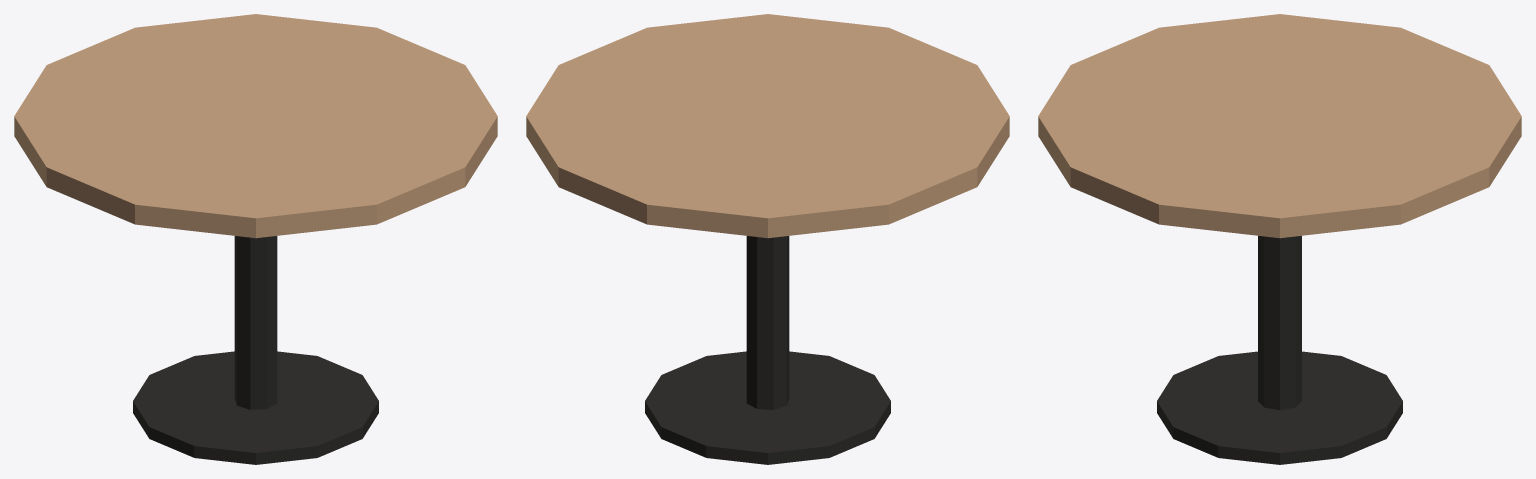
The model's file is table.glb.
3 views of the same model, side by side, from view 1: azimuth 30°, elevation 25°; view 2: azimuth 150°, elevation 25°; view 3: azimuth 270°, elevation 25° (orthographic).
Parts seen in each view (by area): view 1: TableTop, TableFoot, TablePost; view 2: TableTop, TableFoot, TablePost; view 3: TableTop, TableFoot, TablePost.
Boxes of the visible parts, <box> form: TableTop: <box>14,14,497,238</box>; TableFoot: <box>133,351,378,464</box>; TablePost: <box>234,236,277,409</box>; TableTop: <box>526,14,1009,238</box>; TableFoot: <box>645,351,890,464</box>; TablePost: <box>746,236,789,409</box>; TableTop: <box>1038,14,1521,238</box>; TableFoot: <box>1157,351,1402,464</box>; TablePost: <box>1258,236,1301,410</box>.
Bounding box in the file's own units: 1.1 × 0.745 × 1.1.
